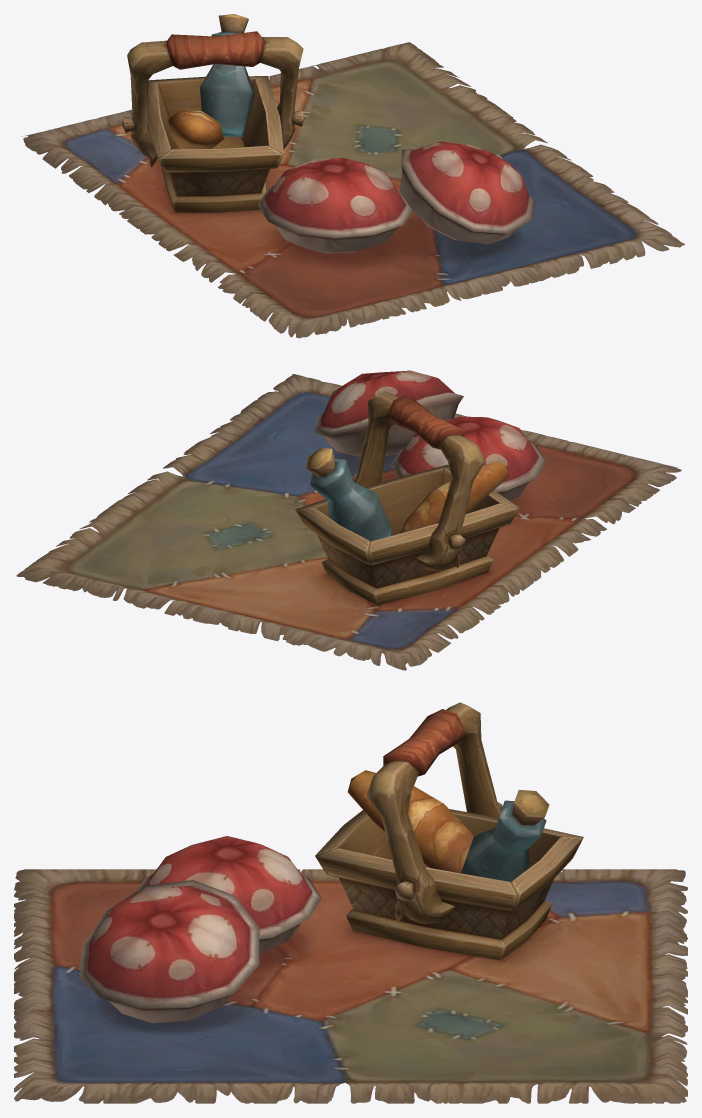
3 renders of one model, top to bottom at view 1: azimuth 30°, elevation 25°; view 2: azimuth 150°, elevation 25°; view 3: azimuth 270°, elevation 25°, orthographic. The views are drawn at different scales.
Size of the model in its own units: 2.51 by 0.962 by 3.05.
Materials: 2 (2 with a texture image).
